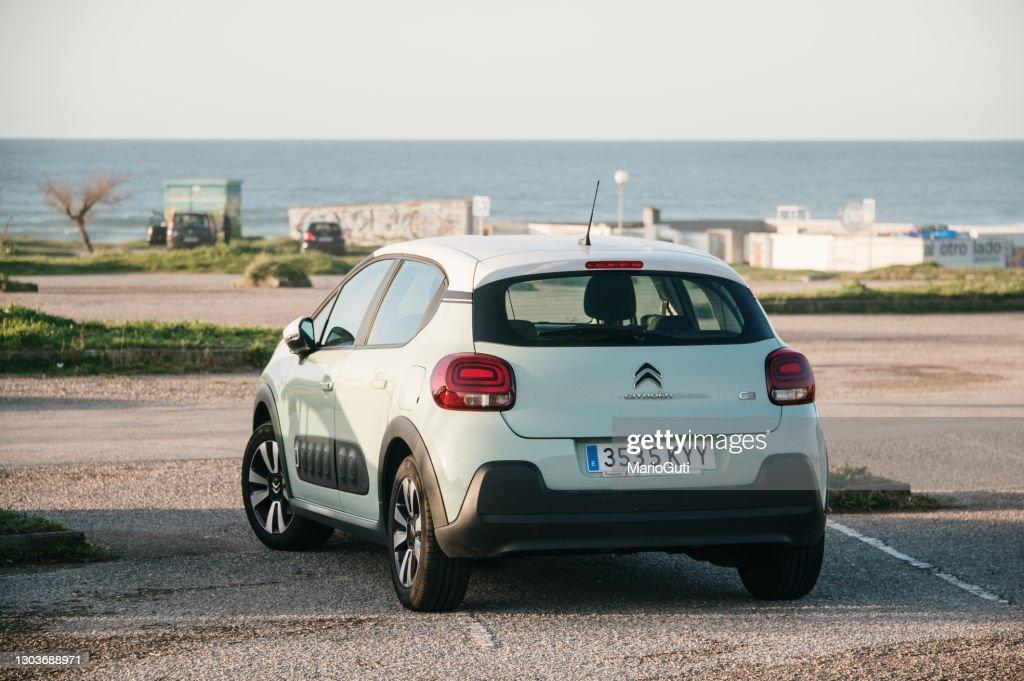Citroen: (614, 355, 684, 408)
